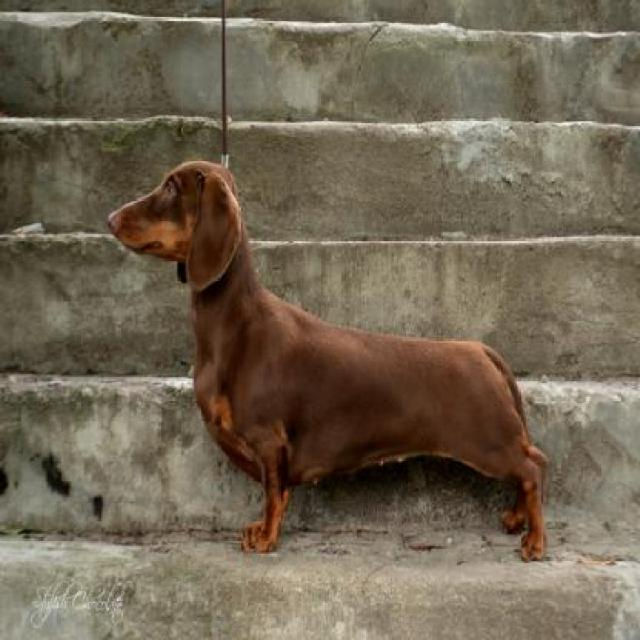Dog: (105, 149, 549, 565)
